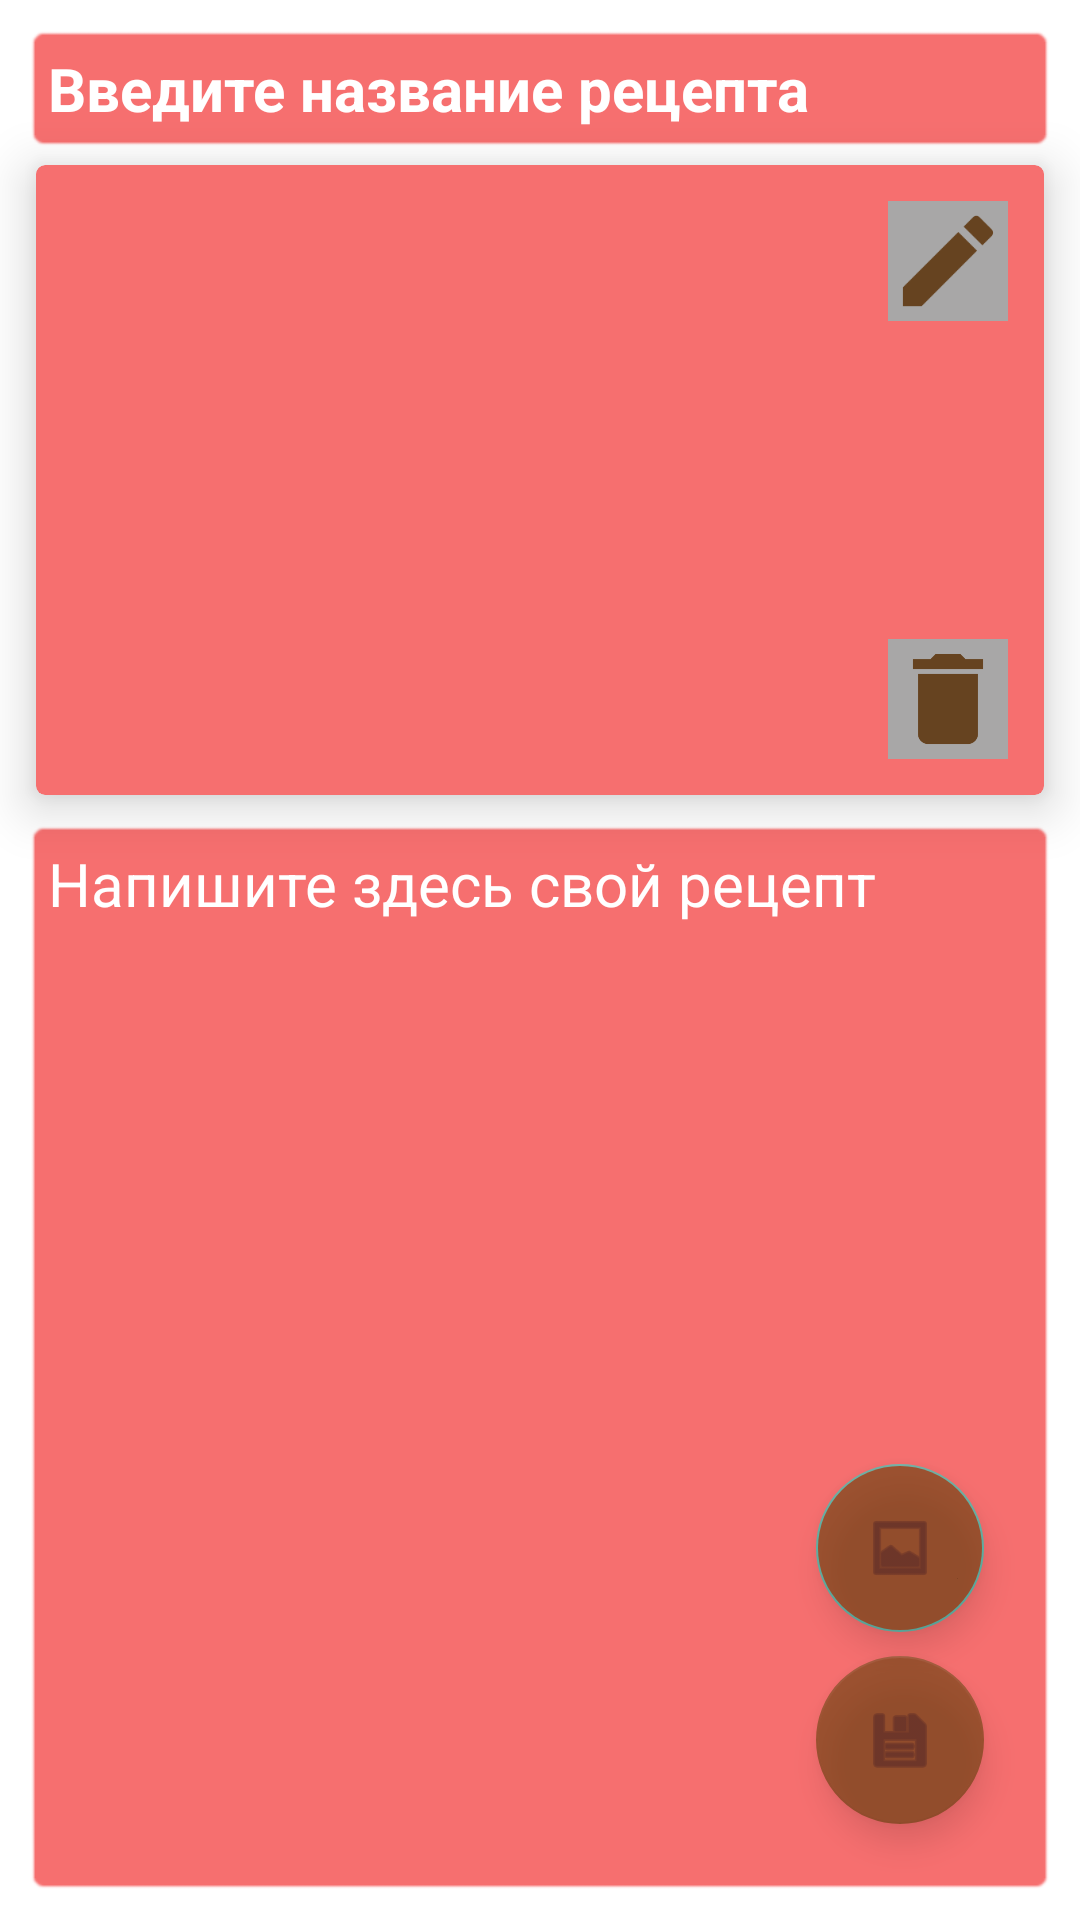

Icons on this 1080*1920 Android screen, each with its box as (x1, y1, x2, y2):
delete: (888, 639, 1008, 759)
edit: (888, 201, 1008, 321)
gallery: (816, 1464, 984, 1632)
save: (816, 1656, 984, 1824)
